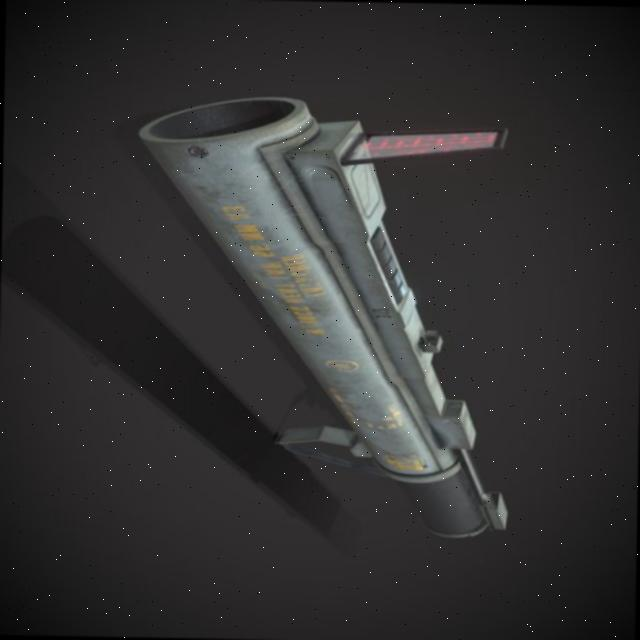Bazooka: (133, 94, 542, 540)
